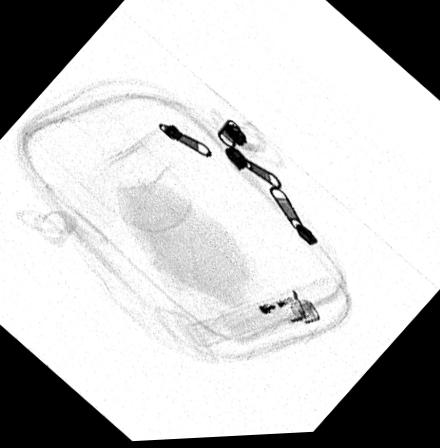Lighter: (187, 289, 319, 350)
